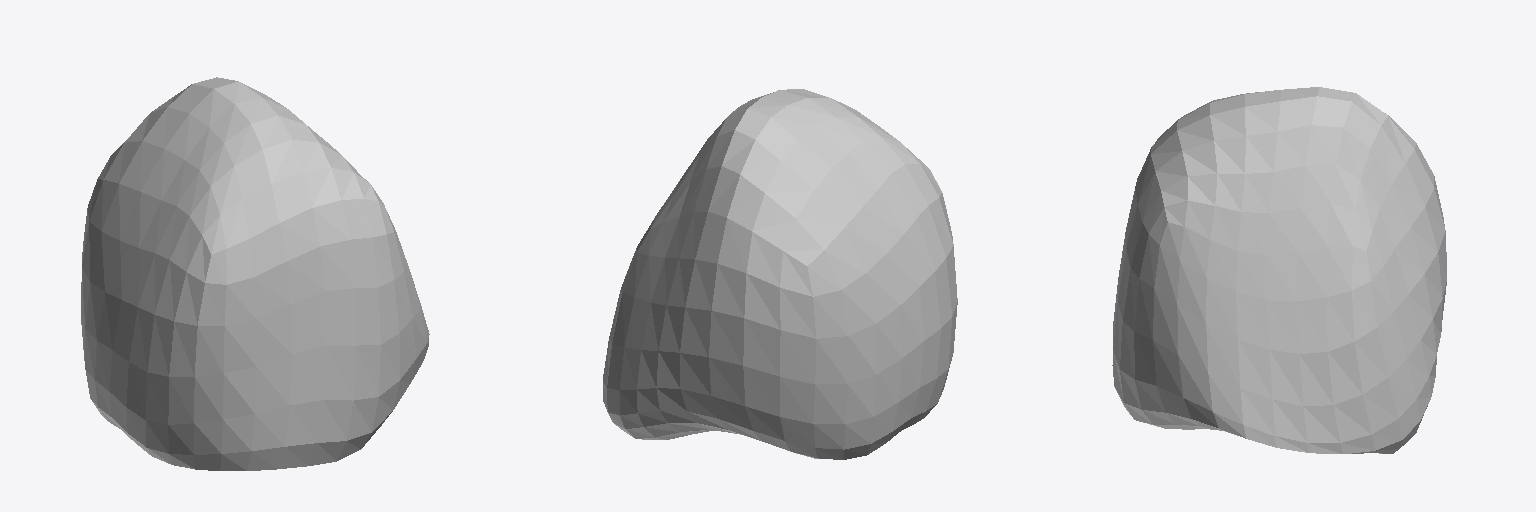
Rendered from Rock_A_01_LOD0.obj.
3 views of the same model, side by side, from view 1: azimuth 30°, elevation 25°; view 2: azimuth 150°, elevation 25°; view 3: azimuth 270°, elevation 25° (orthographic).
Parts seen in each view (by area): view 1: Rock_A_01_LOD0_Cube.519; view 2: Rock_A_01_LOD0_Cube.519; view 3: Rock_A_01_LOD0_Cube.519.
Part boxes in pixels (x1,y1,x2,y2): Rock_A_01_LOD0_Cube.519: (81,77,429,470); Rock_A_01_LOD0_Cube.519: (603,89,957,459); Rock_A_01_LOD0_Cube.519: (1112,87,1446,453).
Size of the model in its own units: 2.4 by 2.45 by 2.32.